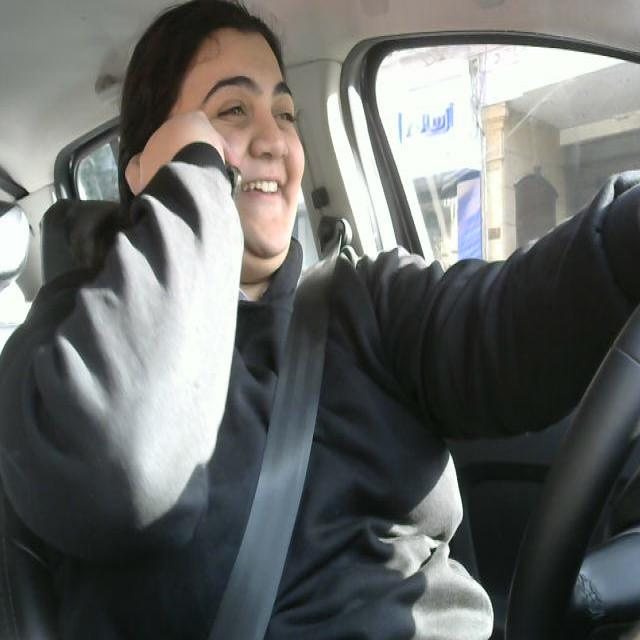mobile use: (126, 104, 243, 228)
